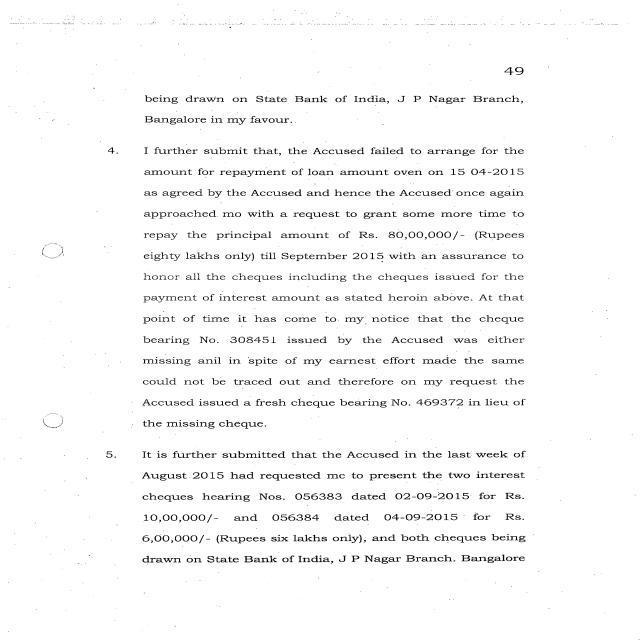page-number: (413, 18, 617, 86)
